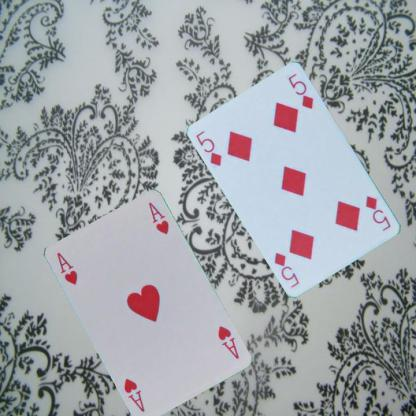5d: (194, 128, 224, 171), (363, 193, 392, 233)
Ah: (214, 323, 240, 361), (53, 250, 78, 286)
